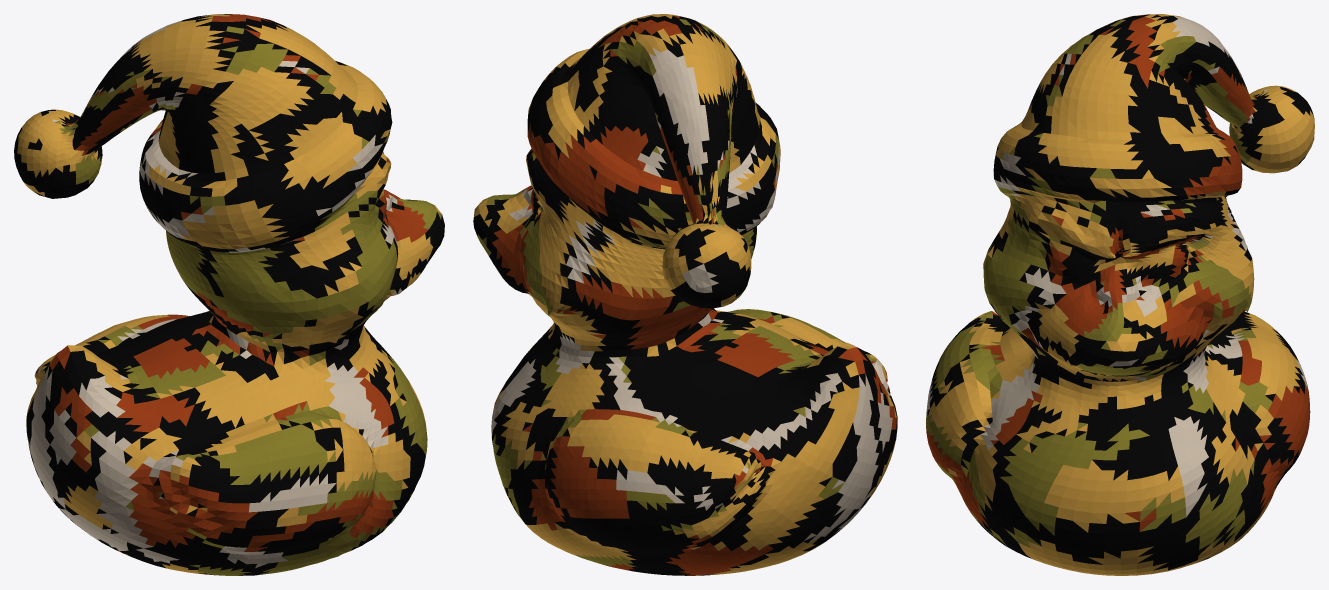
Rendered from region_materials.obj.
The picture shows the model from 3 angles, left to right: view 1: azimuth 30°, elevation 25°; view 2: azimuth 150°, elevation 25°; view 3: azimuth 270°, elevation 25°; orthographic projection. The views are drawn at different scales.
Visible parts, largest first — view 1: RegionGroupedMesh; view 2: RegionGroupedMesh; view 3: RegionGroupedMesh.
Part boxes in pixels (x1,y1,x2,y2): RegionGroupedMesh: (14,14,444,575); RegionGroupedMesh: (473,14,897,575); RegionGroupedMesh: (926,14,1314,575).
Size of the model in its own units: 0.8036 by 0.999 by 0.6925.
